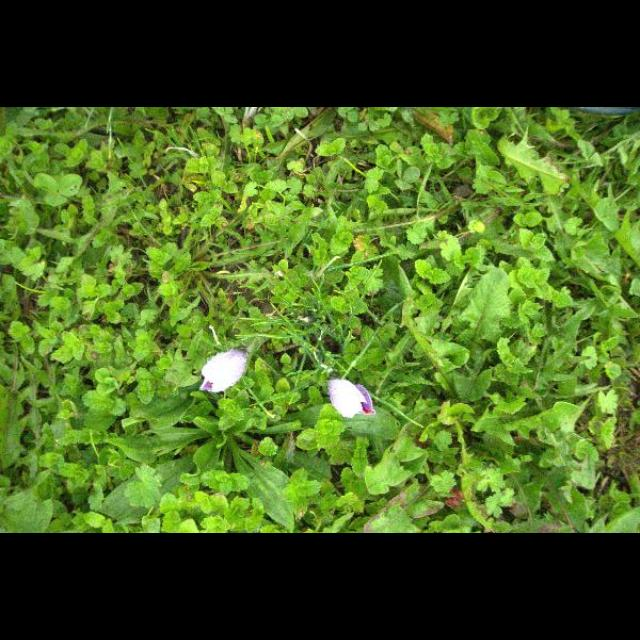flower: (200, 351, 248, 394), (329, 379, 376, 419)
